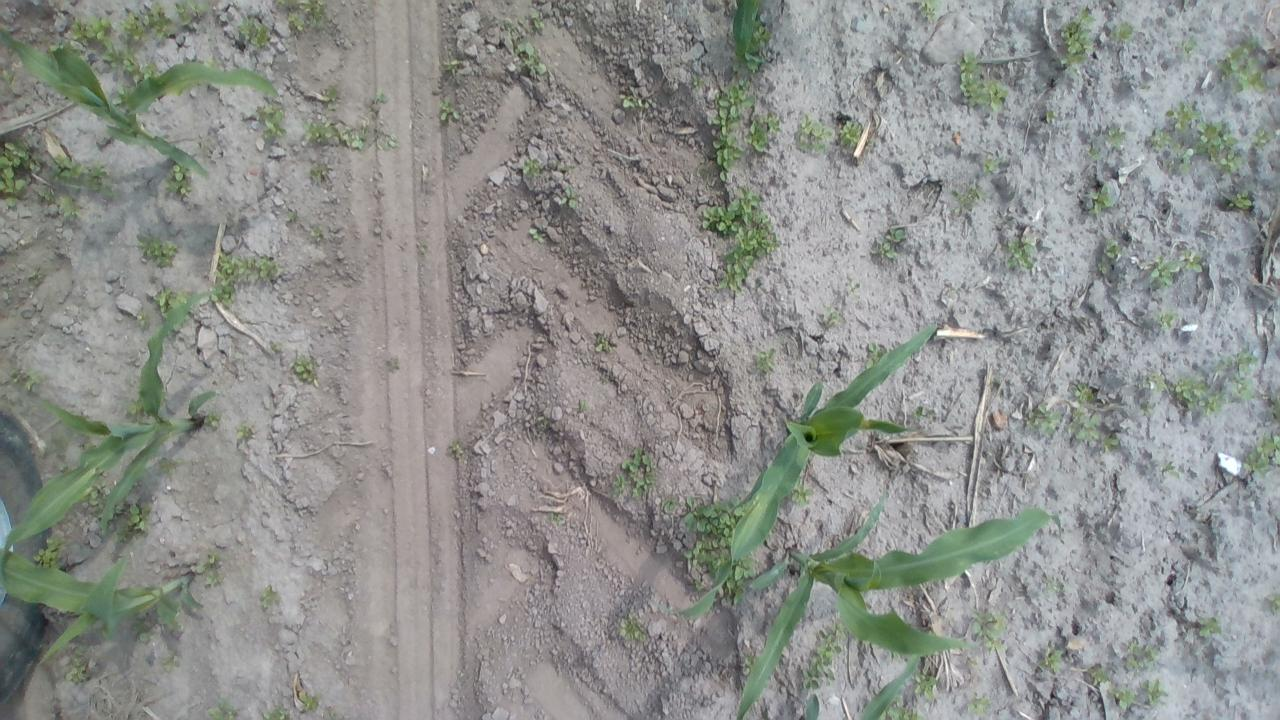Maize: (655, 320, 937, 618), (736, 489, 1057, 720), (2, 288, 228, 562), (0, 30, 282, 182), (0, 549, 206, 667), (860, 651, 924, 720), (730, 0, 770, 72), (802, 692, 823, 720)
Weeds: (701, 187, 782, 291), (711, 78, 754, 182), (1216, 33, 1280, 94), (684, 493, 746, 551), (211, 252, 275, 307), (41, 154, 112, 198), (960, 52, 1009, 112), (300, 116, 380, 152), (1194, 118, 1246, 173), (802, 624, 844, 690), (0, 138, 40, 204), (1060, 7, 1096, 74), (612, 448, 657, 500), (119, 0, 174, 41), (970, 608, 1006, 654), (115, 502, 154, 544), (278, 0, 326, 34), (1242, 434, 1280, 475), (138, 234, 179, 270), (1220, 348, 1258, 386), (796, 113, 832, 153), (723, 555, 753, 602), (746, 113, 781, 153), (70, 13, 112, 46), (1170, 375, 1208, 411), (235, 14, 271, 52), (1026, 402, 1062, 437), (256, 100, 286, 142), (152, 286, 190, 318), (126, 54, 161, 87), (1124, 639, 1159, 671), (1068, 406, 1100, 441), (875, 225, 906, 261), (515, 40, 547, 74), (682, 542, 716, 574), (1004, 235, 1035, 270), (164, 162, 194, 198), (196, 549, 224, 587), (1165, 98, 1196, 132), (32, 538, 67, 568), (618, 612, 649, 642), (100, 42, 128, 74), (1150, 256, 1178, 288), (1087, 182, 1113, 216), (174, 0, 208, 26), (956, 183, 986, 212), (1166, 139, 1192, 172), (11, 368, 45, 393), (206, 698, 244, 720), (84, 479, 108, 512), (293, 354, 318, 385), (1141, 679, 1169, 706), (883, 702, 924, 720), (1110, 686, 1138, 712), (914, 673, 940, 701), (64, 658, 90, 686), (57, 192, 82, 220), (1224, 189, 1254, 212), (754, 347, 780, 372), (838, 119, 862, 146), (1204, 390, 1228, 417), (964, 692, 992, 715), (912, 0, 940, 23), (1040, 642, 1062, 671), (1069, 380, 1098, 402), (864, 342, 888, 368), (258, 584, 282, 610), (367, 90, 390, 116), (44, 432, 73, 452), (619, 92, 651, 110), (1142, 370, 1166, 394), (1198, 615, 1222, 639), (1152, 310, 1178, 332), (558, 183, 580, 209), (128, 620, 154, 642), (439, 97, 460, 124), (1179, 248, 1202, 272), (1251, 125, 1274, 149), (322, 85, 342, 112), (1176, 36, 1198, 60), (792, 483, 814, 507), (1150, 129, 1172, 153), (1112, 21, 1134, 44), (522, 156, 548, 175), (1104, 126, 1126, 148), (298, 691, 322, 711), (1089, 666, 1111, 686), (308, 162, 330, 182), (156, 652, 179, 671), (594, 330, 613, 353), (1044, 574, 1065, 594), (754, 21, 770, 47), (128, 394, 143, 421), (742, 650, 758, 675), (1102, 238, 1122, 258), (506, 16, 528, 34), (552, 160, 576, 176), (662, 494, 680, 514), (381, 132, 399, 152), (982, 154, 1002, 172), (824, 308, 842, 327), (158, 455, 176, 474), (204, 411, 224, 428), (527, 226, 547, 243), (28, 268, 46, 286), (1101, 434, 1120, 451), (263, 706, 286, 720), (112, 86, 128, 106), (848, 278, 862, 300), (1, 68, 18, 86), (236, 424, 254, 441), (448, 441, 466, 458), (1138, 401, 1156, 418), (912, 404, 932, 419), (1234, 386, 1255, 400), (1162, 462, 1180, 478), (690, 74, 706, 92), (530, 12, 545, 31), (444, 55, 458, 75), (963, 654, 981, 669), (386, 356, 402, 372), (1266, 594, 1280, 612), (1270, 394, 1280, 419), (1086, 147, 1101, 162), (206, 56, 224, 68), (1044, 109, 1058, 124), (311, 226, 324, 242), (137, 313, 150, 328), (574, 400, 587, 415), (550, 511, 564, 524), (269, 341, 283, 353), (537, 416, 549, 430), (694, 578, 706, 592), (286, 212, 298, 224), (1098, 263, 1108, 275), (329, 707, 338, 720), (59, 463, 70, 472), (82, 442, 96, 448)
